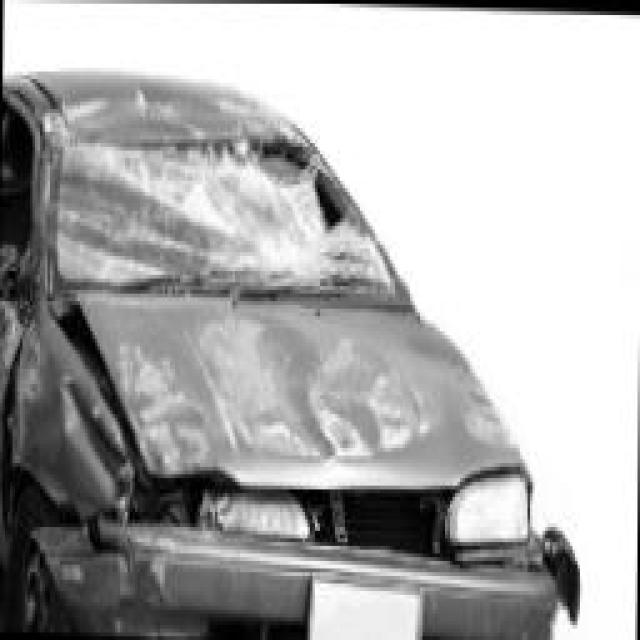Bonnet: (148, 286, 468, 488)
Bumper: (50, 531, 208, 638)
Fender: (12, 346, 120, 513)
Light: (142, 463, 268, 528)
Windshield: (88, 132, 382, 292)
